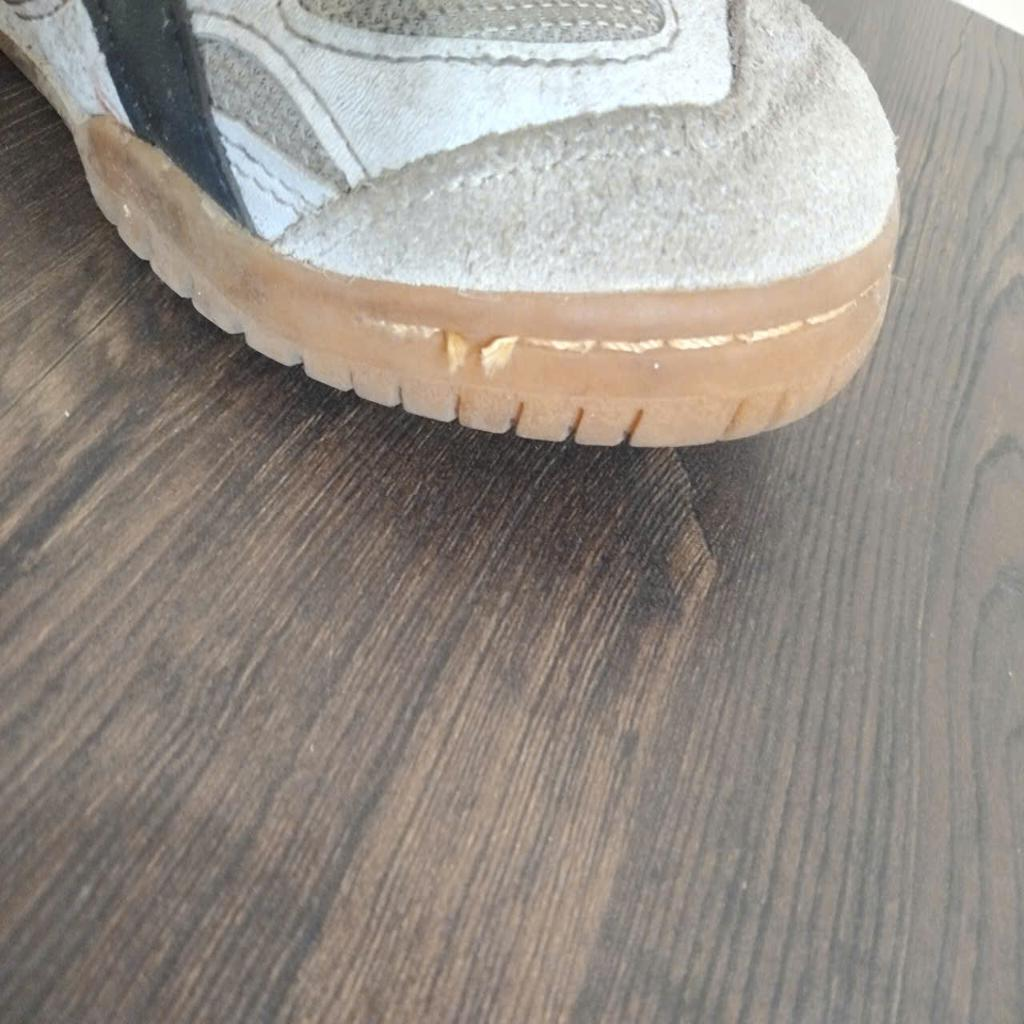broken: (437, 325, 520, 374)
